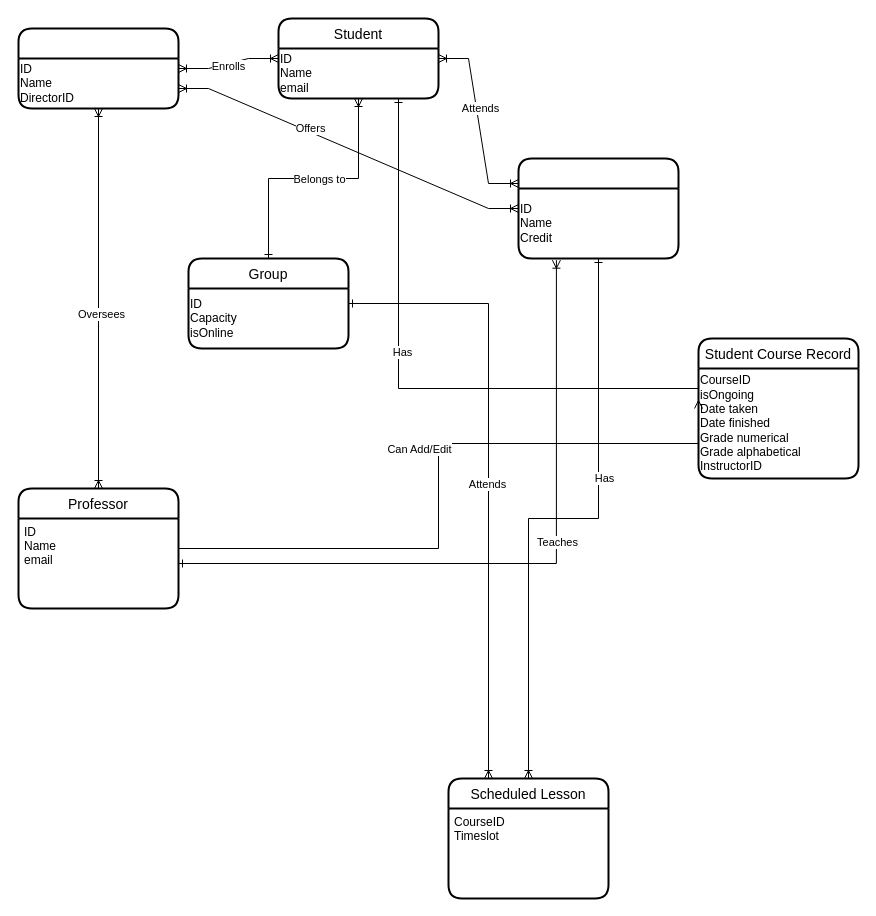
The diagram is 876 pixels wide and 916 high, and some of its shapes have lost their labels. Each missing label, with the box of its shape:
Course: (517, 157, 679, 259)
Faculty: (17, 27, 179, 109)
